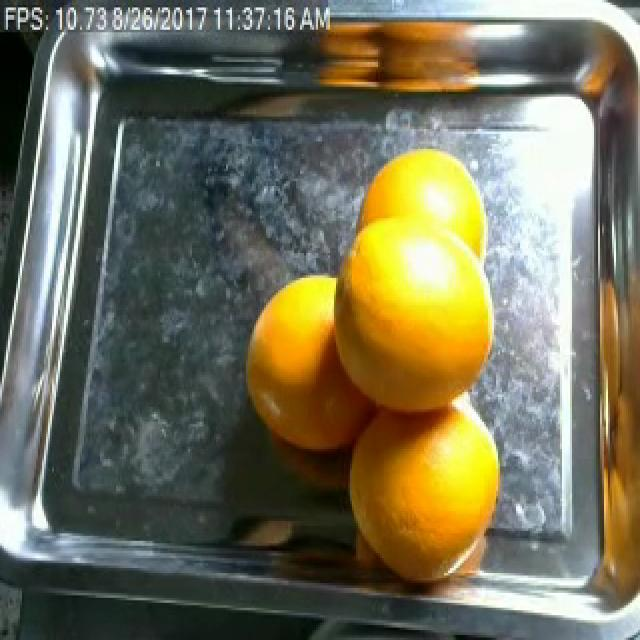Fruit: (344, 134, 496, 327)
